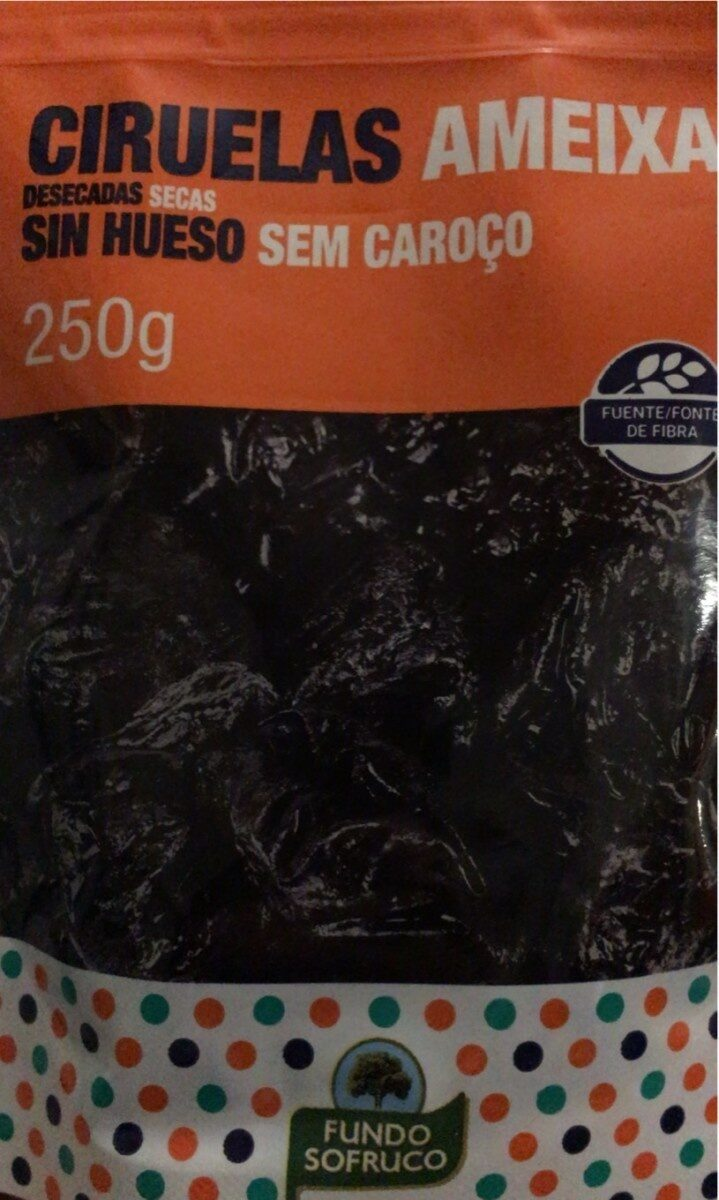Ciruelas desecadas sin hueso: (36, 60, 683, 1140)
